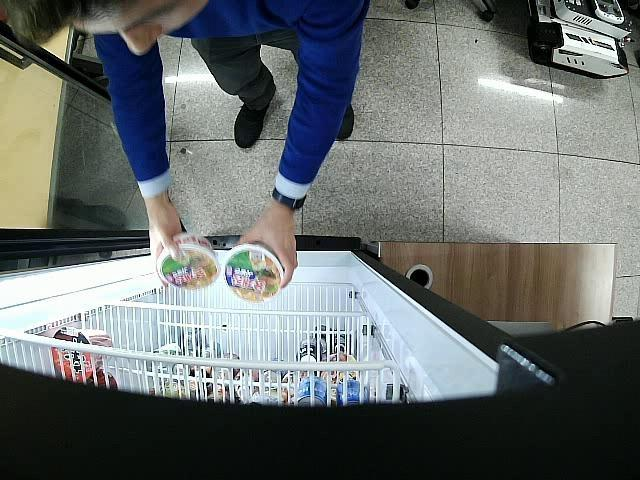09_yukGaeJang: (222, 240, 284, 303), (157, 234, 220, 290)
